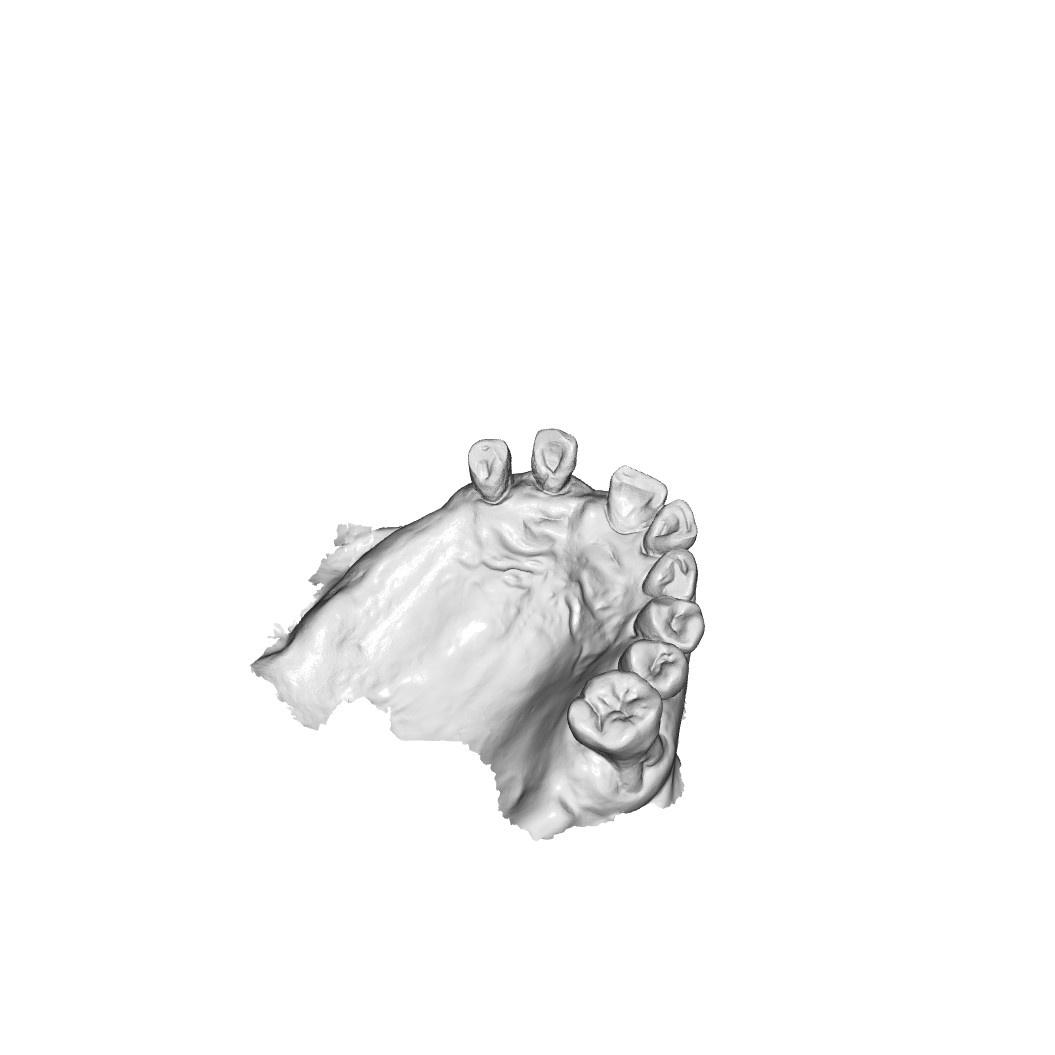canine: (466, 436, 524, 514), (647, 551, 698, 595)
incisor: (609, 469, 674, 537), (645, 501, 702, 555), (531, 428, 577, 487)
molar: (569, 669, 658, 757)
premolar: (624, 636, 692, 696), (638, 597, 706, 653)
